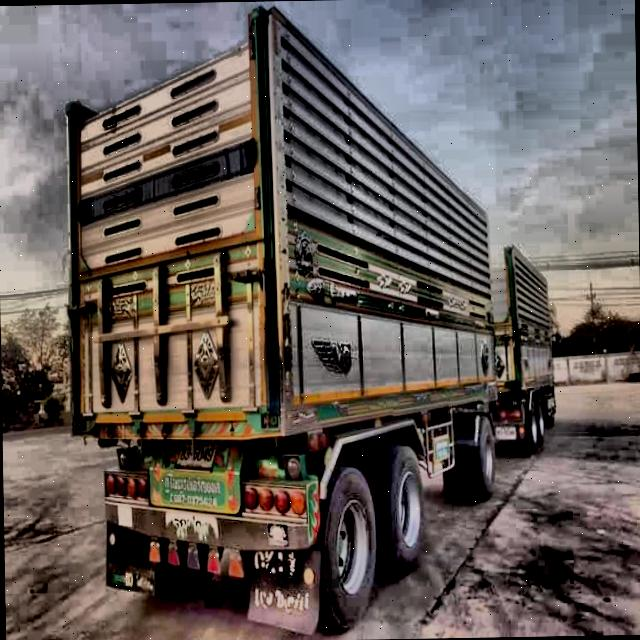trailer: (48, 0, 570, 640)
